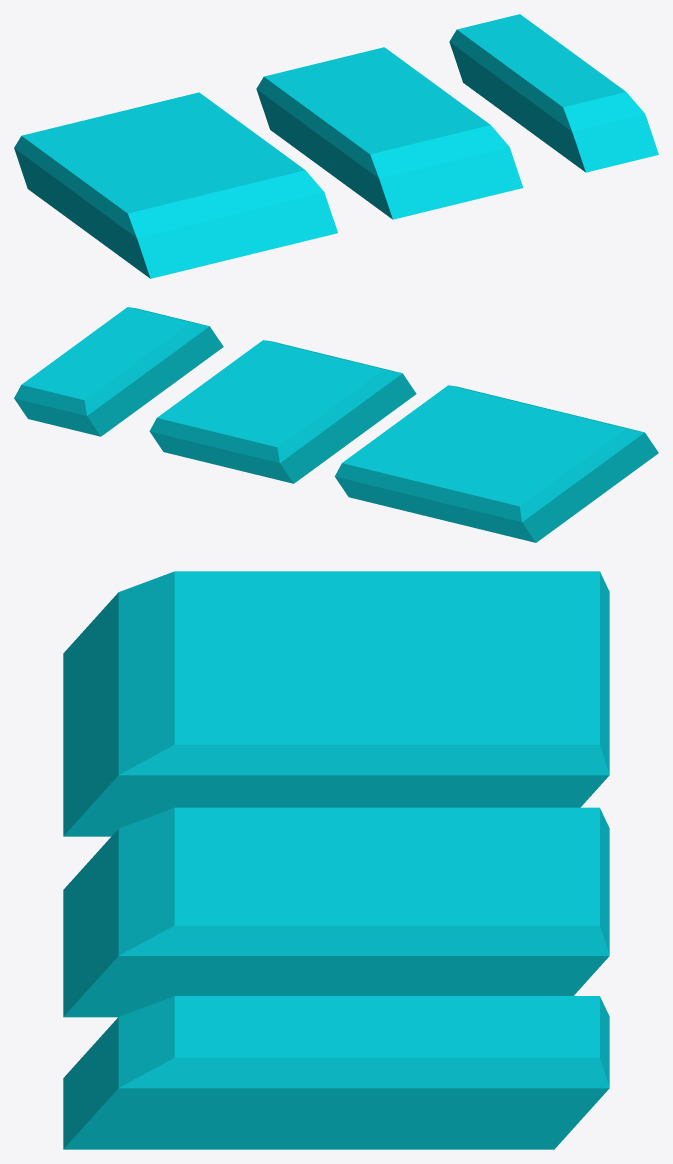
File: arrowBase.fbx
3 renders of one model, top to bottom at view 1: azimuth 30°, elevation 25°; view 2: azimuth 150°, elevation 25°; view 3: azimuth 270°, elevation 25°, orthographic. The views are drawn at different scales.
Parts seen in each view (by area): view 1: Plane.004; view 2: Plane.004; view 3: Plane.004.
Part boxes in pixels (x1,y1,x2,y2): Plane.004: (14,14,658,278); Plane.004: (14,307,658,542); Plane.004: (63,571,609,1149).
Size of the model in its own units: 478 by 39.22 by 223.
